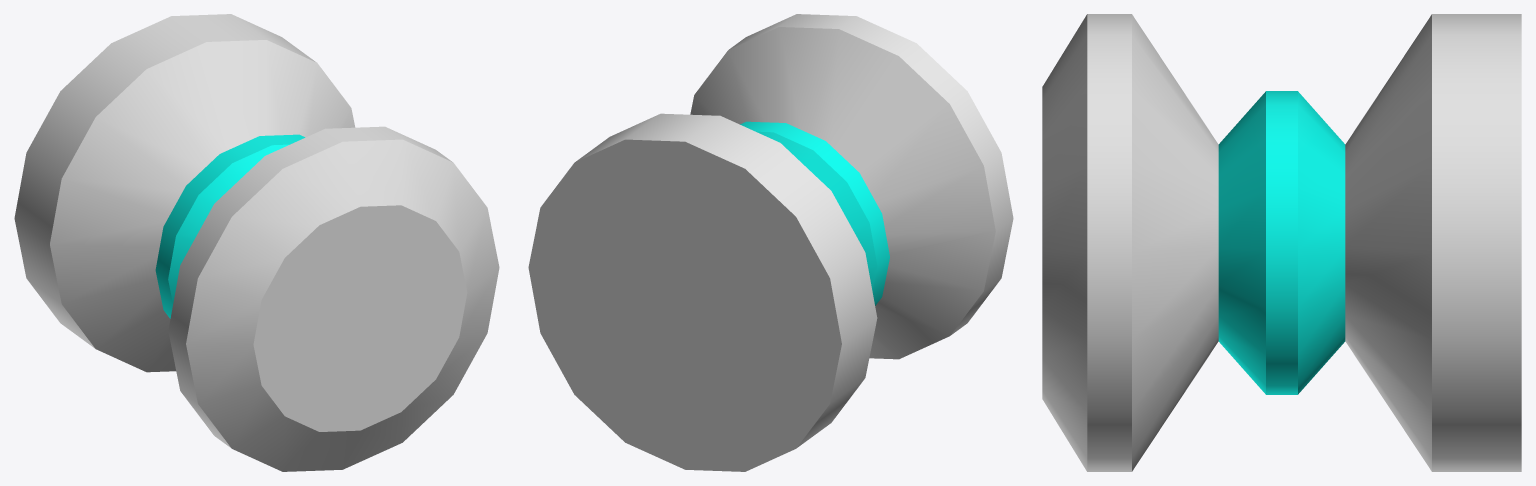
Rendered from SM_BodyImplosive.fbx.
3 views of the same model, side by side, from view 1: azimuth 30°, elevation 25°; view 2: azimuth 150°, elevation 25°; view 3: azimuth 270°, elevation 25° (orthographic). The views are drawn at different scales.
Visible parts, largest first — view 1: BodyImplosive; view 2: BodyImplosive; view 3: BodyImplosive.
Part boxes in pixels (x1,y1,x2,y2): BodyImplosive: [14, 14, 499, 471]; BodyImplosive: [528, 14, 1013, 471]; BodyImplosive: [1042, 14, 1521, 471].
Bounding box in the file's own units: 1.87 × 1.87 × 1.95.
Materials: 1 (1 with a texture image).
